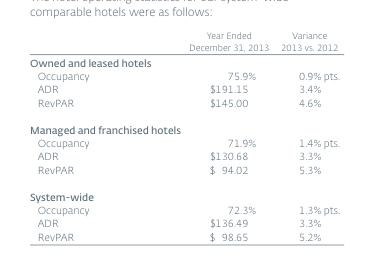table: (28, 28, 339, 242)
table column: (138, 28, 274, 242), (28, 28, 138, 242), (274, 28, 321, 242), (321, 28, 339, 242)
table column header: (28, 28, 339, 53)
table projected row header: (28, 115, 339, 135), (28, 182, 339, 202), (28, 53, 339, 68)
table row: (28, 28, 339, 53), (28, 95, 339, 115), (28, 115, 339, 135), (28, 162, 339, 182), (28, 182, 339, 202), (28, 53, 339, 68), (28, 81, 339, 95), (28, 148, 339, 162), (28, 215, 339, 229), (28, 68, 339, 81), (28, 135, 339, 148), (28, 202, 339, 215), (28, 229, 339, 242)
table spanning cell: (274, 28, 339, 53)
